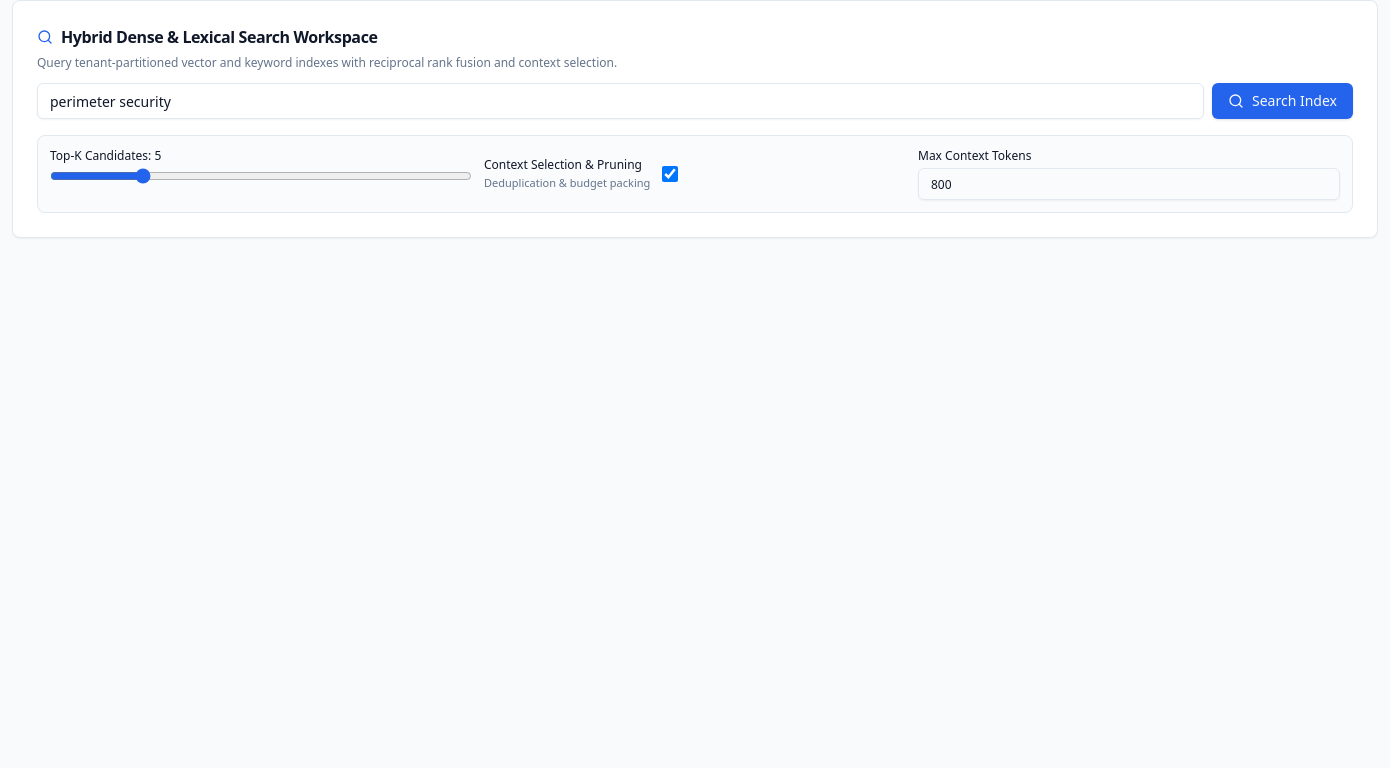
Test: FE-05 RAG Console Integration Suite › executes RAG search query and renders retrieved chunks with similarity metrics and metadata
The image size is (1390, 768).
Click the button with test id "rag-search-button" at (1282, 101), box [1212,83,1353,119]
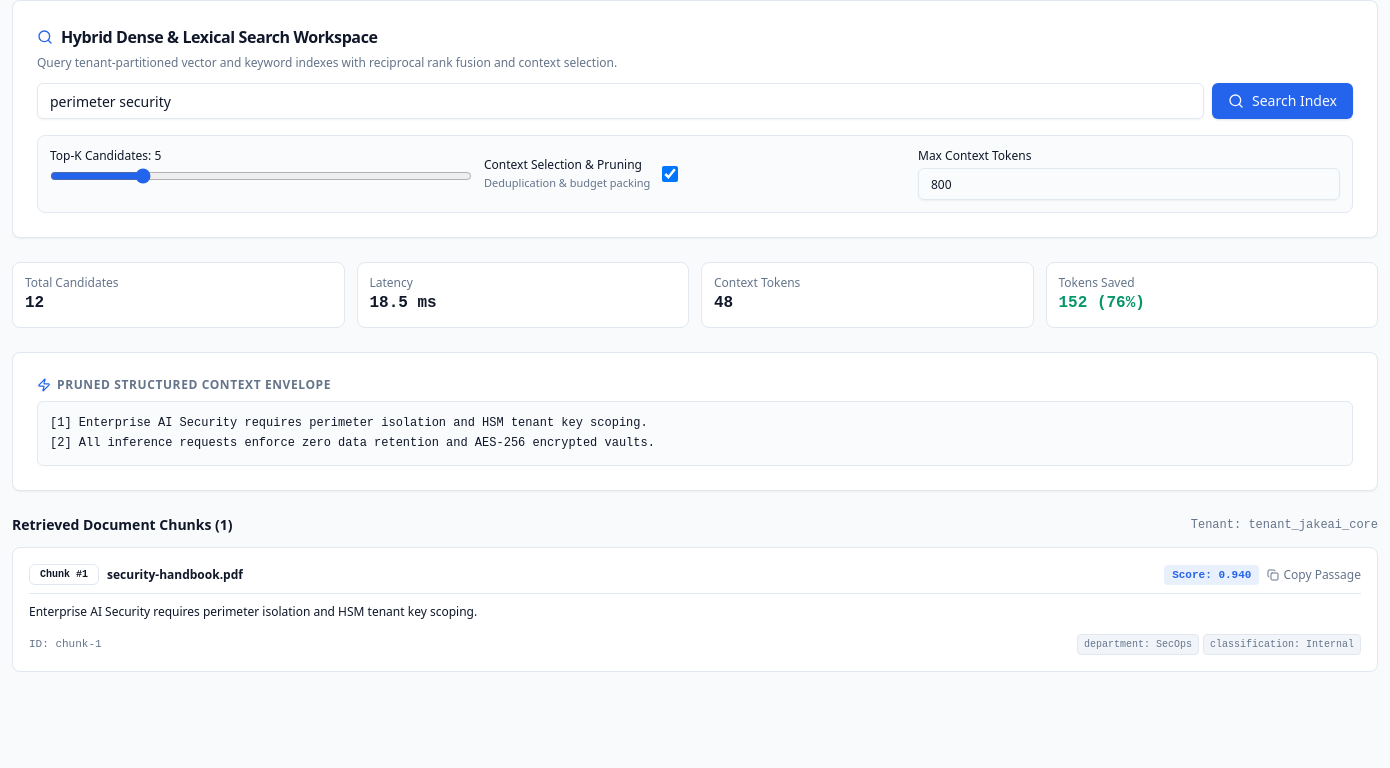
Result: the text "Score: 0.940" is shown at [1164,564,1259,584]
Result: the text "security-handbook.pdf" is shown at [107,566,243,582]
Result: the text "department: SecOps" is shown at [1077,634,1199,654]
